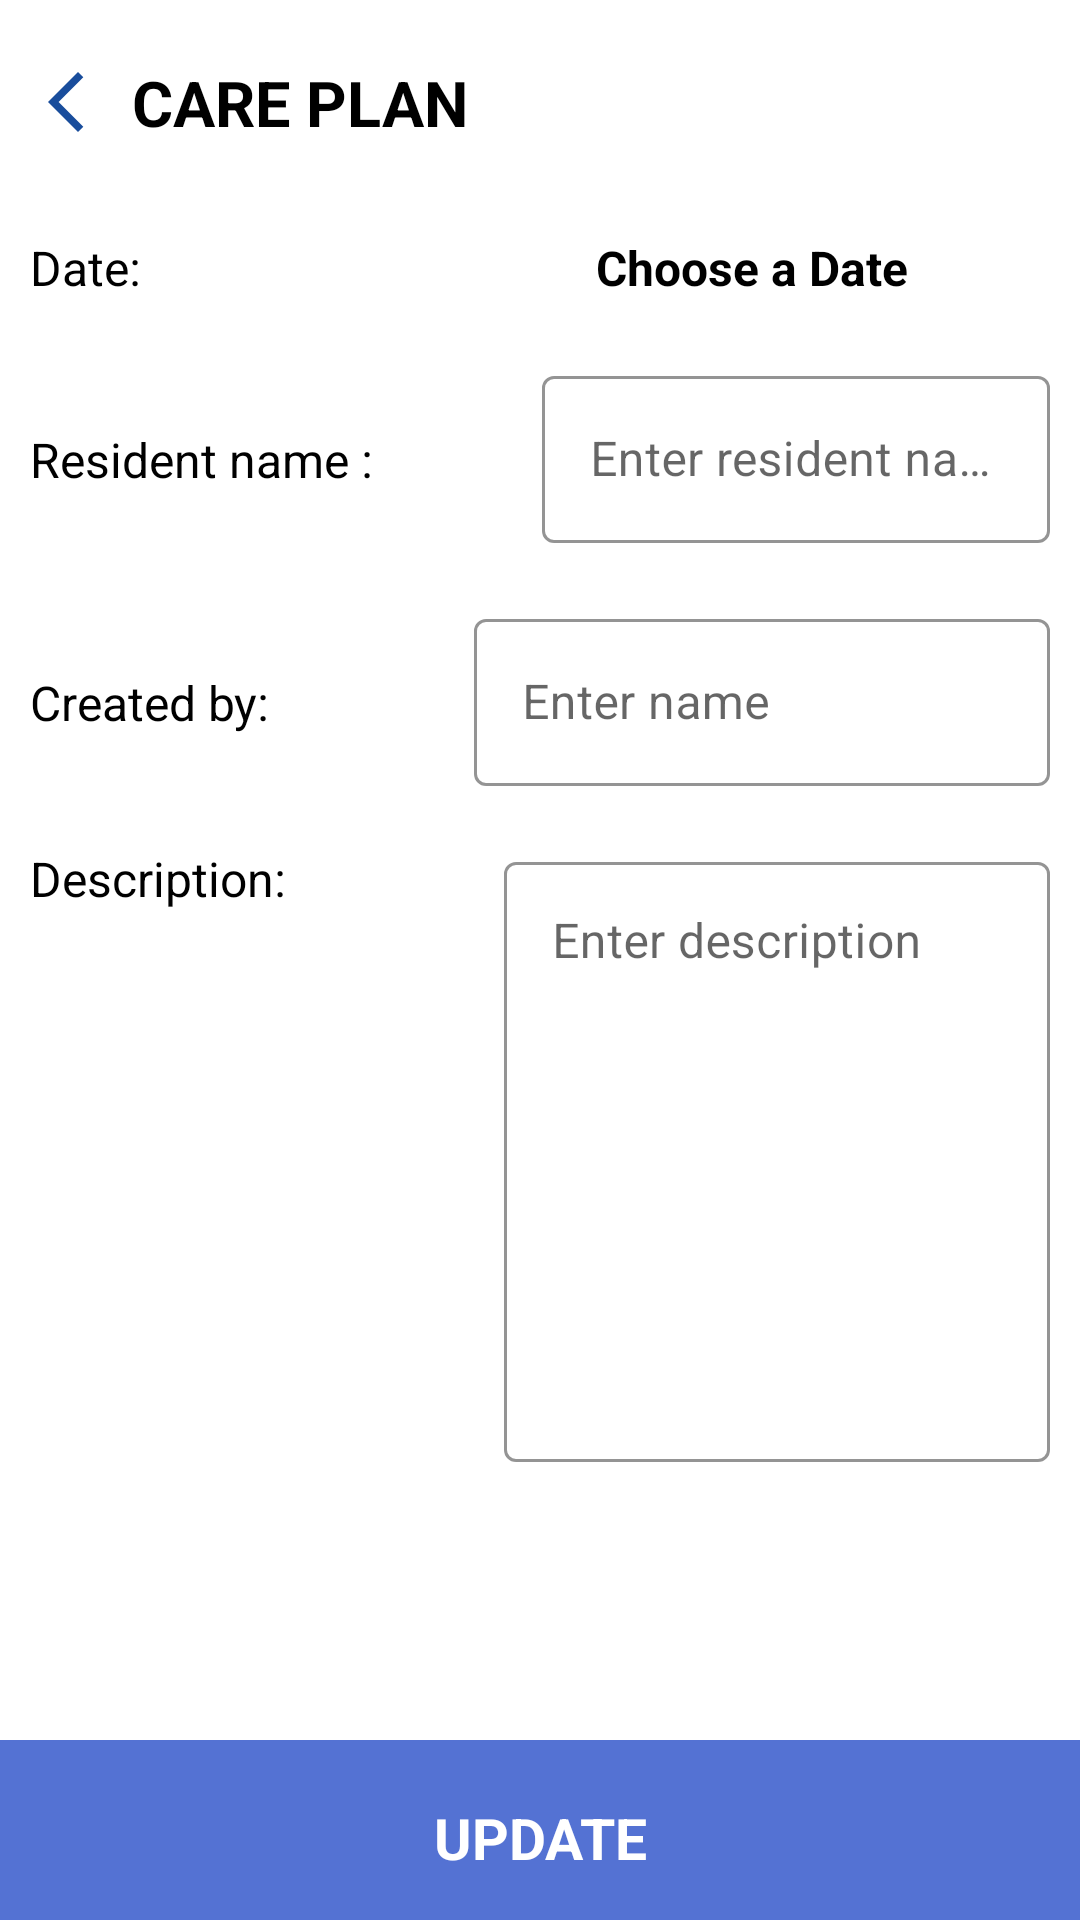

Icons on this 1080w x 1920h Android screen, each with the point to tap as [x,y]:
arrow back: [65,102]
